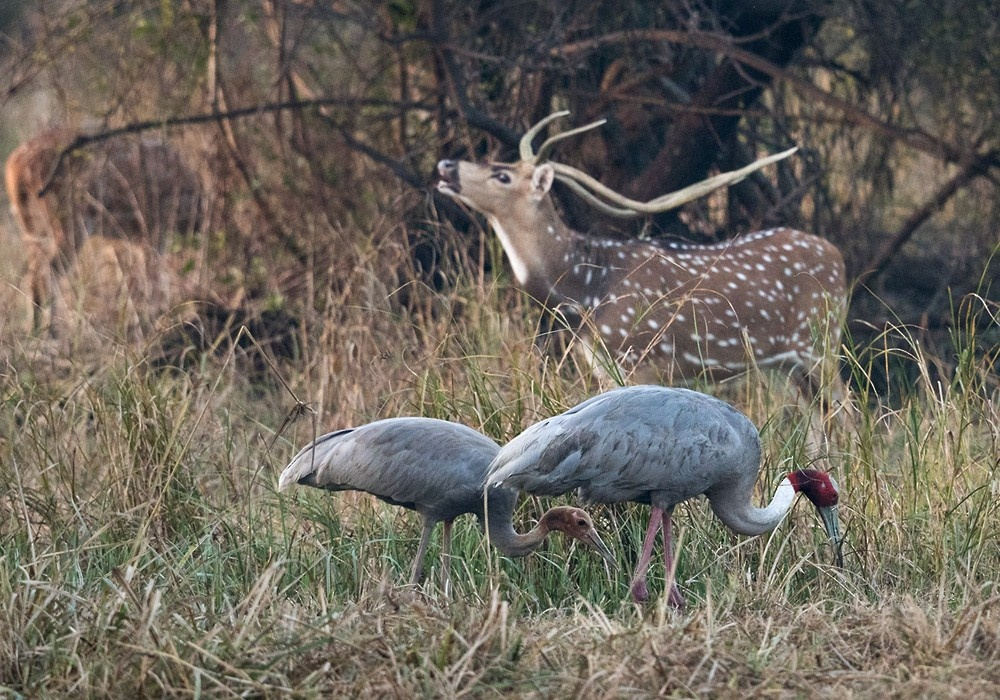crane: (503, 381, 845, 599), (286, 412, 616, 591)
